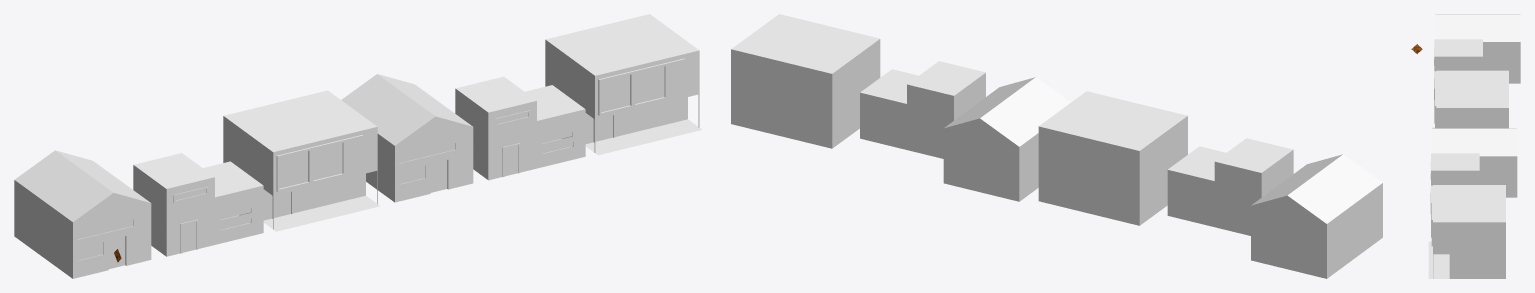
Rendered from stguis.gltf.
The picture shows the model from 3 angles, left to right: view 1: azimuth 30°, elevation 25°; view 2: azimuth 150°, elevation 25°; view 3: azimuth 270°, elevation 25°; orthographic projection. The views are drawn at different scales.
Visible parts, largest first — view 1: SketchUp.016, SketchUp.010, SketchUp, SketchUp.026, SketchUp.023, SketchUp.002, SketchUp.020, SketchUp.013, SketchUp.018, SketchUp.011, SketchUp.012, SketchUp.019 (+2 smaller); view 2: SketchUp.010, SketchUp.016, SketchUp, SketchUp.026, SketchUp.002, SketchUp.023; view 3: SketchUp.016, SketchUp.010, SketchUp.026, SketchUp, SketchUp.023, SketchUp.002, SketchUp.020, SketchUp.013.
Part boxes in pixels (x1,y1,x2,y2): SketchUp.016: (545, 14, 701, 155); SketchUp.010: (223, 90, 379, 231); SketchUp: (14, 150, 151, 278); SketchUp.026: (341, 74, 473, 202); SketchUp.023: (455, 76, 585, 180); SketchUp.002: (133, 153, 263, 256); SketchUp.020: (598, 58, 685, 115); SketchUp.013: (276, 135, 363, 191); SketchUp.018: (635, 66, 665, 104); SketchUp.011: (279, 151, 309, 189); SketchUp.012: (313, 142, 343, 181); SketchUp.019: (601, 74, 631, 112); SketchUp.010: (1038, 91, 1187, 225); SketchUp.016: (731, 14, 880, 148); SketchUp: (1251, 154, 1382, 278); SketchUp.026: (943, 77, 1070, 201); SketchUp.002: (1167, 138, 1293, 235); SketchUp.023: (860, 61, 985, 158); SketchUp.016: (1428, 185, 1505, 278); SketchUp.010: (1432, 70, 1508, 128); SketchUp.026: (1432, 128, 1517, 197); SketchUp: (1435, 14, 1520, 83); SketchUp.023: (1430, 153, 1479, 237); SketchUp.002: (1434, 39, 1482, 123); SketchUp.020: (1431, 189, 1432, 246); SketchUp.013: (1435, 75, 1436, 128).
Size of the model in its own units: 50.91 by 6.01 by 10.51.
Materials: 4 (1 with a texture image).
